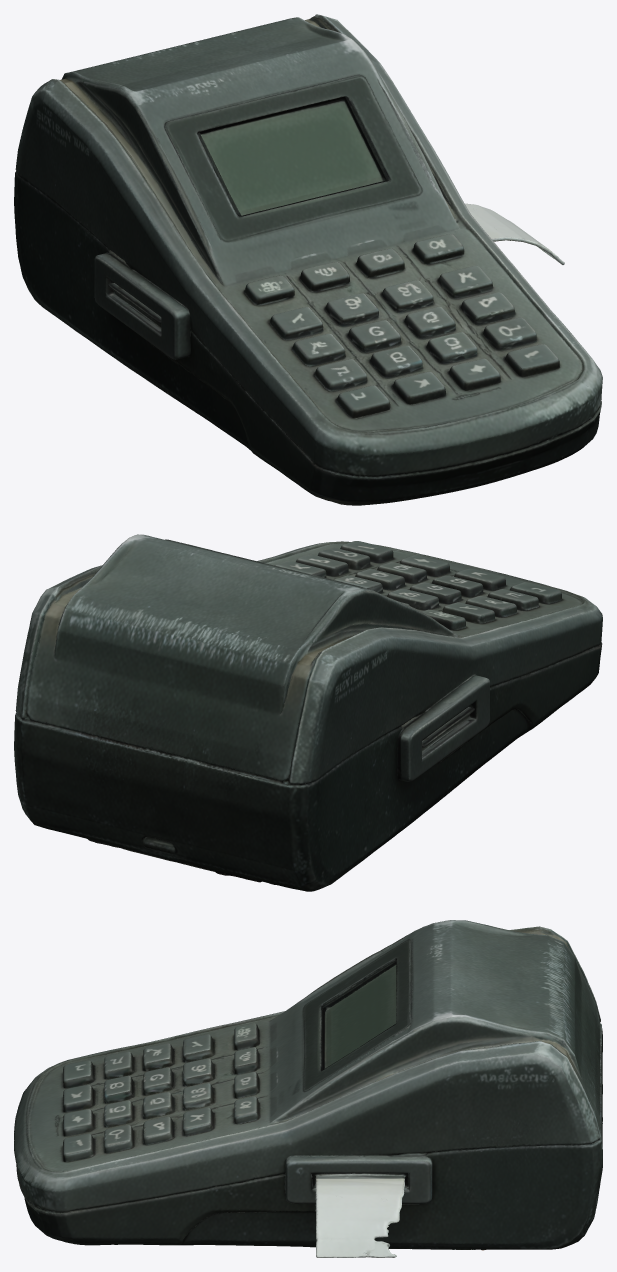
File: Labeler.glb
3 renders of one model, top to bottom at view 1: azimuth 30°, elevation 25°; view 2: azimuth 150°, elevation 25°; view 3: azimuth 270°, elevation 25°, orthographic. The views are drawn at different scales.
Parts seen in each view (by area): view 1: texture_mapping; view 2: texture_mapping; view 3: texture_mapping.
Part boxes in pixels (x1,y1,x2,y2): texture_mapping: (14, 14, 602, 505); texture_mapping: (14, 534, 602, 891); texture_mapping: (14, 920, 602, 1257).
Bounding box in the file's own units: 0.7128 × 0.4334 × 0.9994.
Materials: 1 (1 with a texture image).
